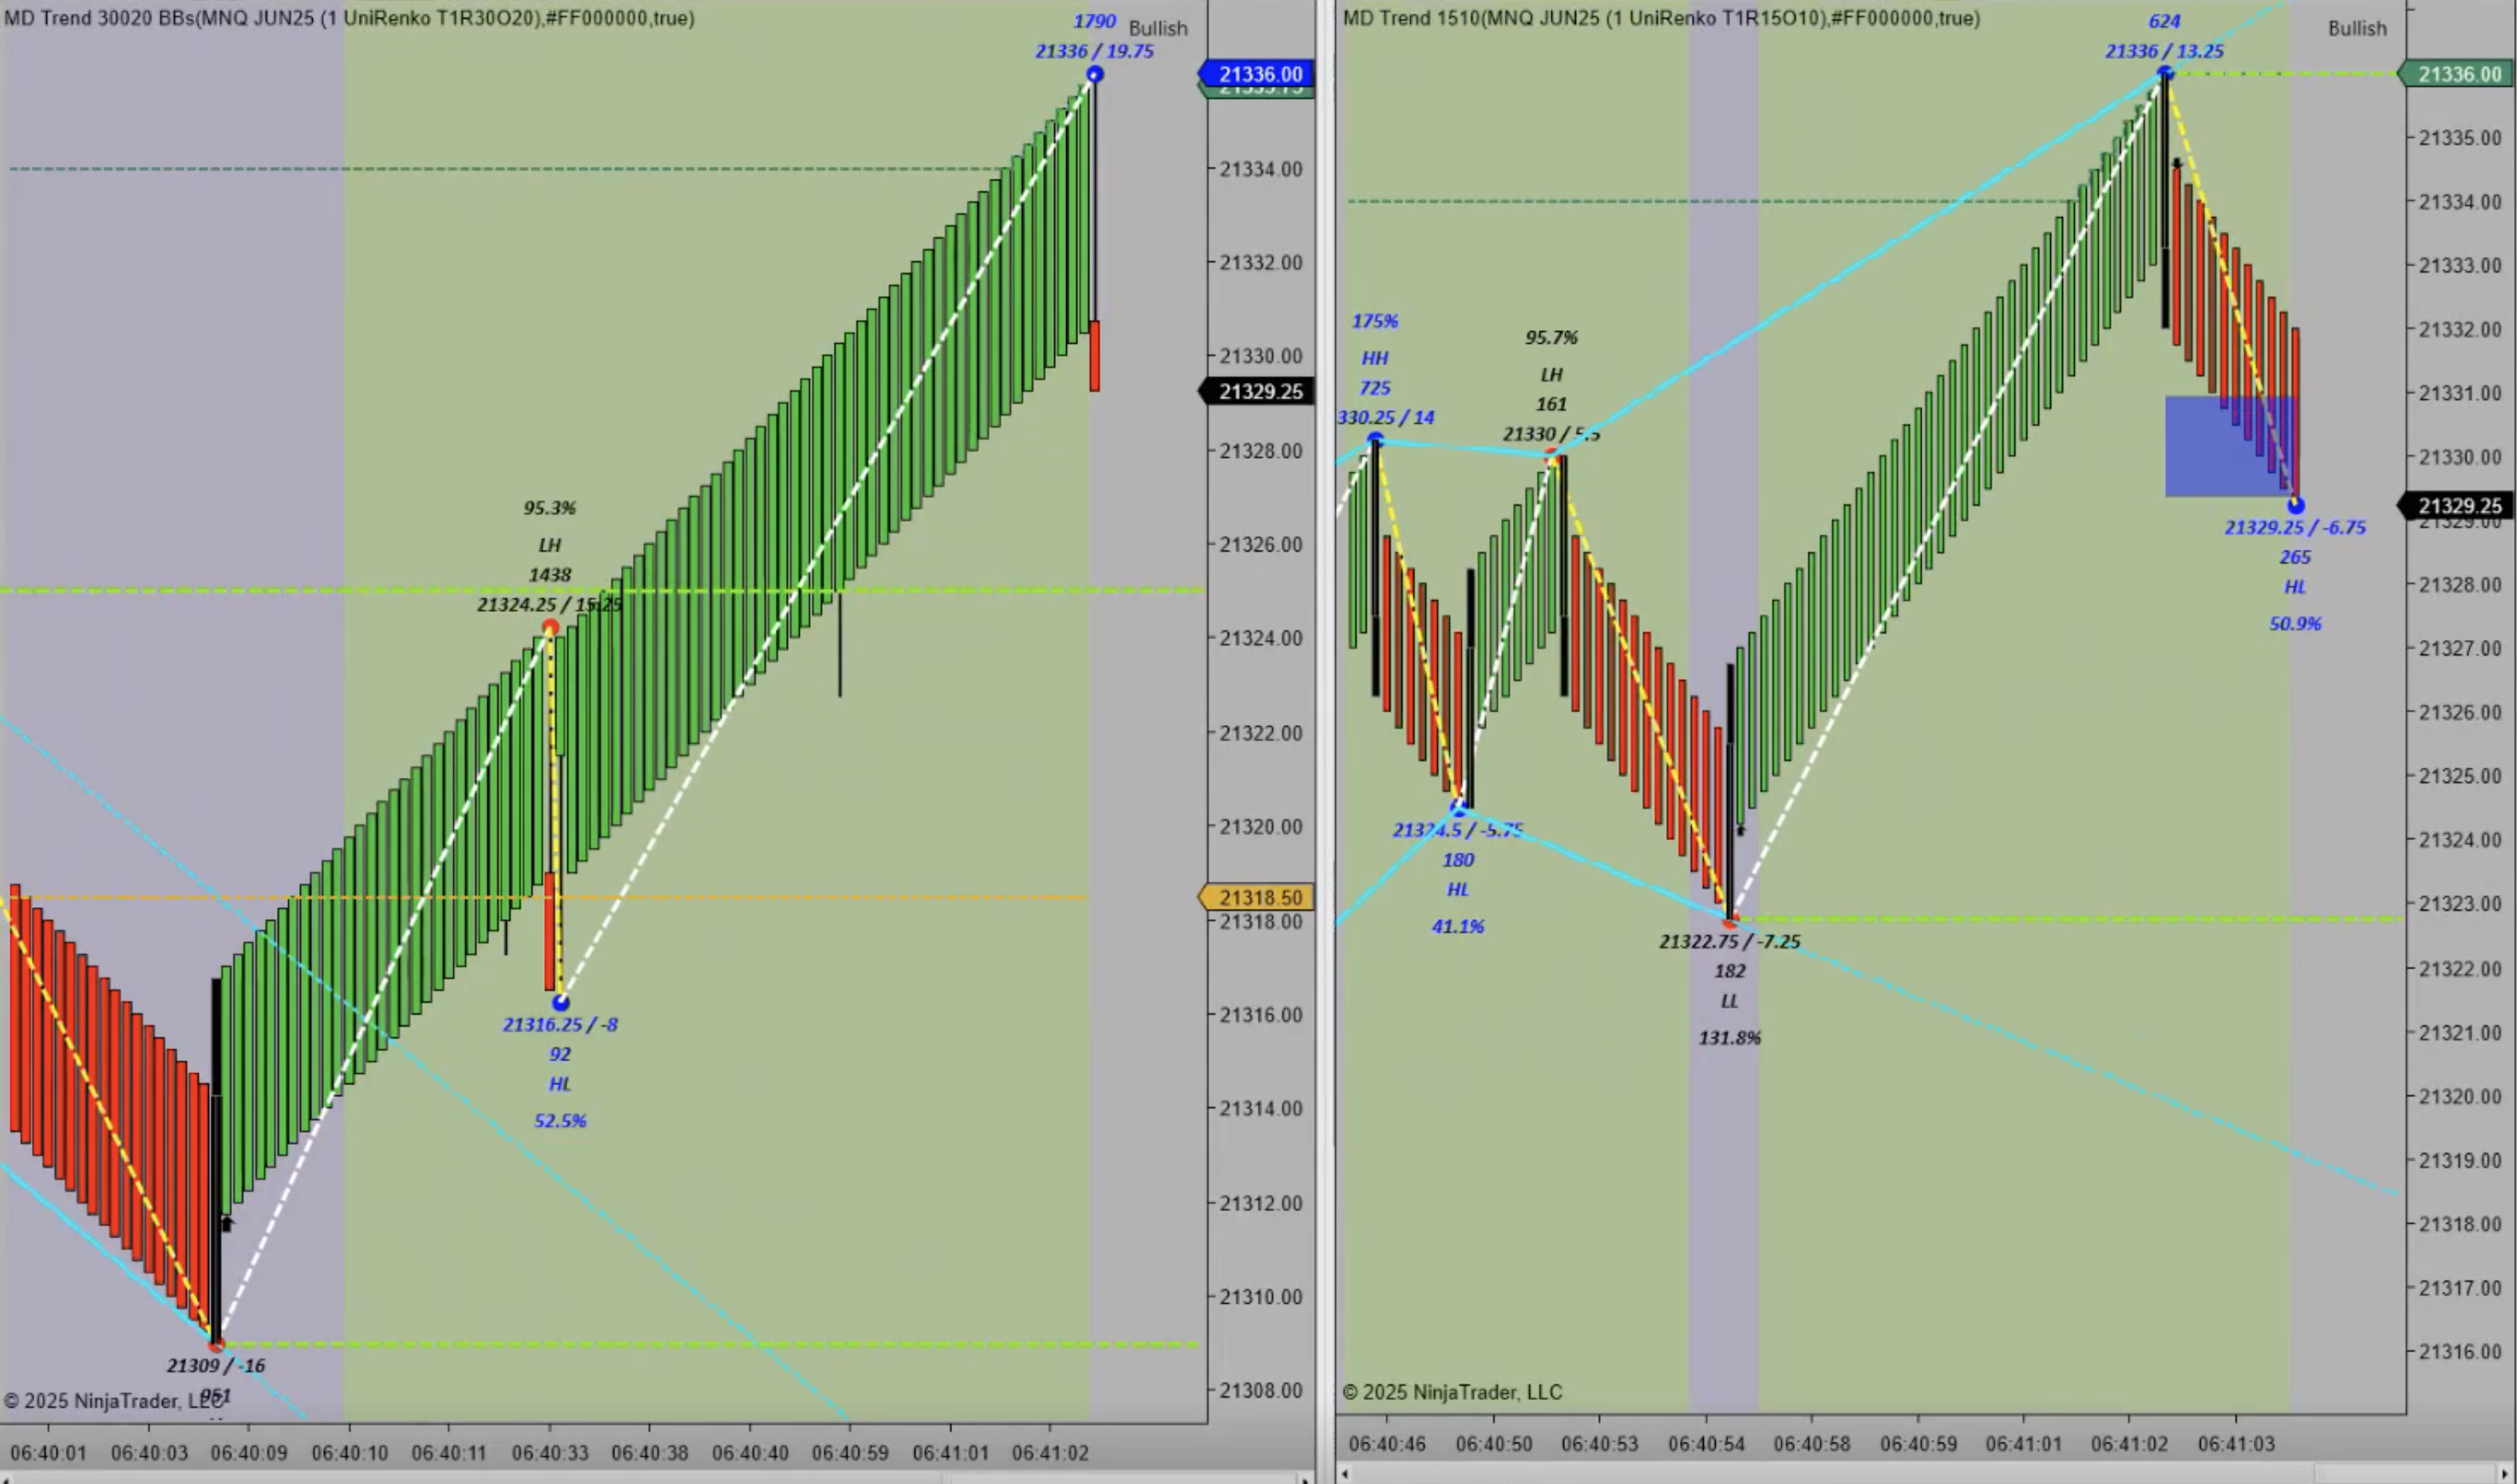candle: (208, 973, 231, 1336), (1369, 436, 1387, 710), (1558, 452, 1576, 708), (2160, 67, 2176, 337), (1464, 564, 1480, 809), (1722, 659, 1736, 919)
